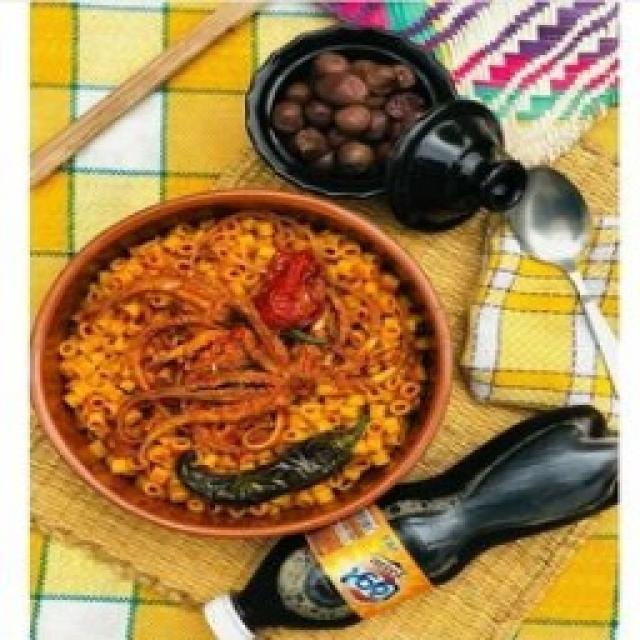Pasta: (59, 212, 430, 517)
